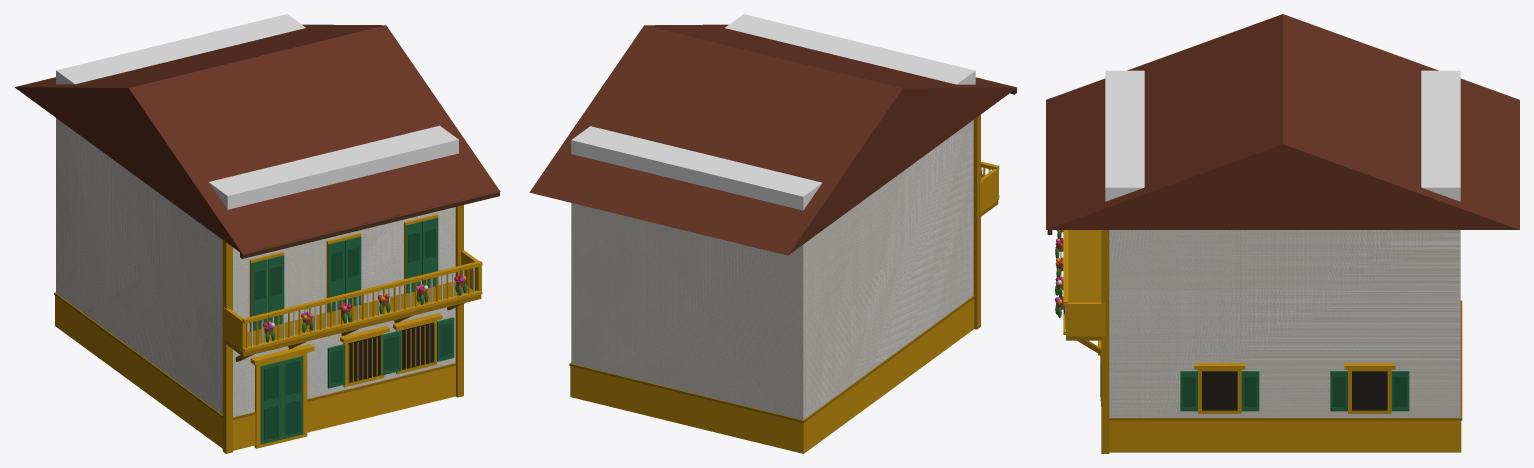
The model's file is casa_cafetera_amarillo.glb.
3 views of the same model, side by side, from view 1: azimuth 30°, elevation 25°; view 2: azimuth 150°, elevation 25°; view 3: azimuth 270°, elevation 25° (orthographic). The views are drawn at different scales.
Parts seen in each view (by area): view 1: casa_cafetera_amarillo_Malla, COL_0; view 2: casa_cafetera_amarillo_Malla, COL_0; view 3: casa_cafetera_amarillo_Malla, COL_0.
Boxes of the visible parts, x1=… form: casa_cafetera_amarillo_Malla: x1=14, y1=24, x2=500, y2=453; COL_0: x1=56, y1=14, x2=458, y2=416; casa_cafetera_amarillo_Malla: x1=529, y1=24, x2=1017, y2=453; COL_0: x1=571, y1=14, x2=975, y2=419; casa_cafetera_amarillo_Malla: x1=1046, y1=14, x2=1519, y2=453; COL_0: x1=1105, y1=70, x2=1460, y2=417.
Bounding box in the file's own units: 7.8 × 8.88 × 12.
